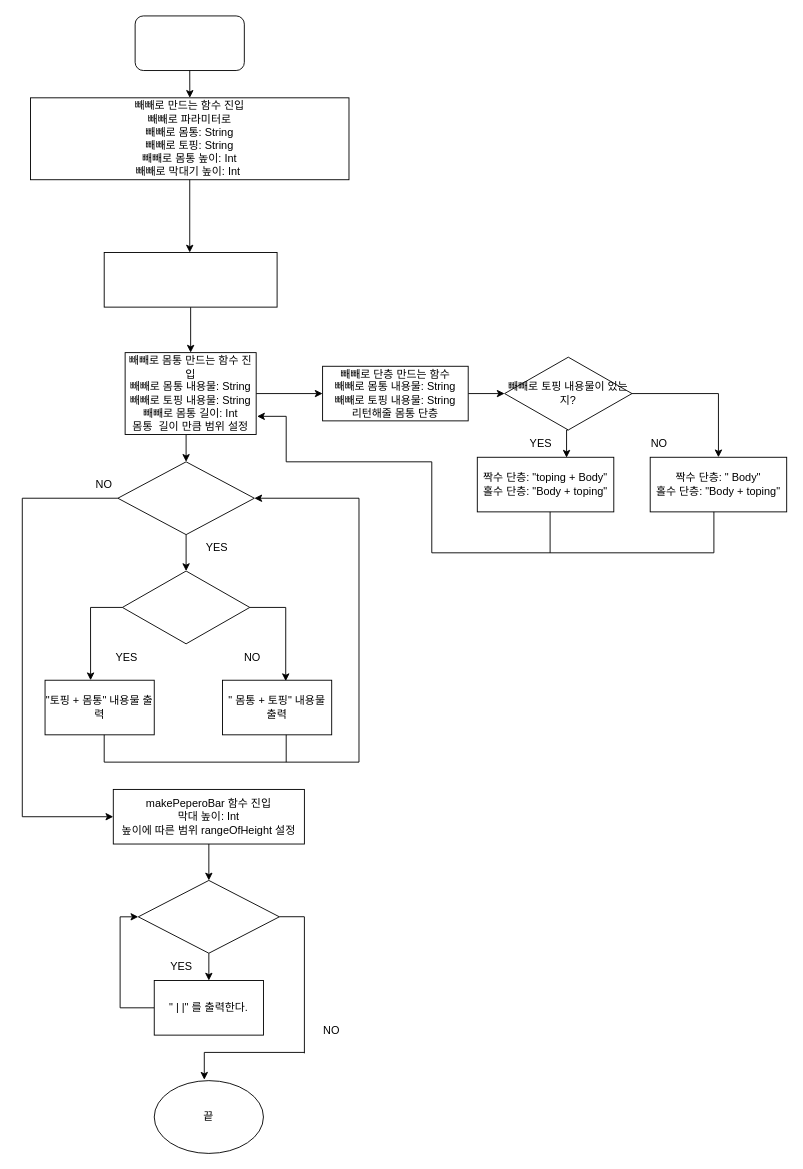
Some shapes in this 803 by 1169 pixel diagram are drawn without their labels. The centre of each missing label's shape, as x and y in pixels:
"막대기 높이가 현재 rangeOfHeight에 포함되어있는지?" belongs at point (208, 916).
"빼빼로 몸통 높이가 현재 rangeOfHeight에 포함되는지?" belongs at point (185, 498).
"빼빼로 파라미터 정보 출력" belongs at point (190, 279).
"빼빼로 현재 높이가 2로 나누어 떨어지는지?" belongs at point (185, 607).
"시작" belongs at point (189, 43).
